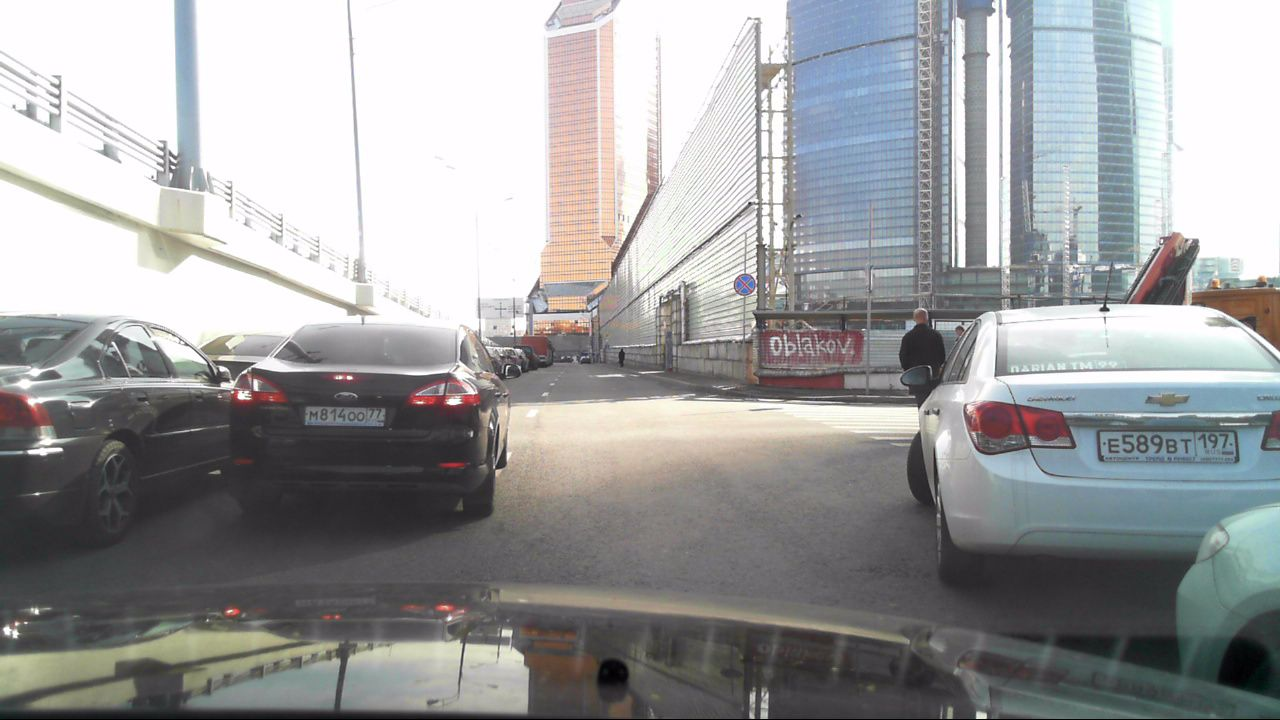No Parking: (733, 272, 758, 298)
